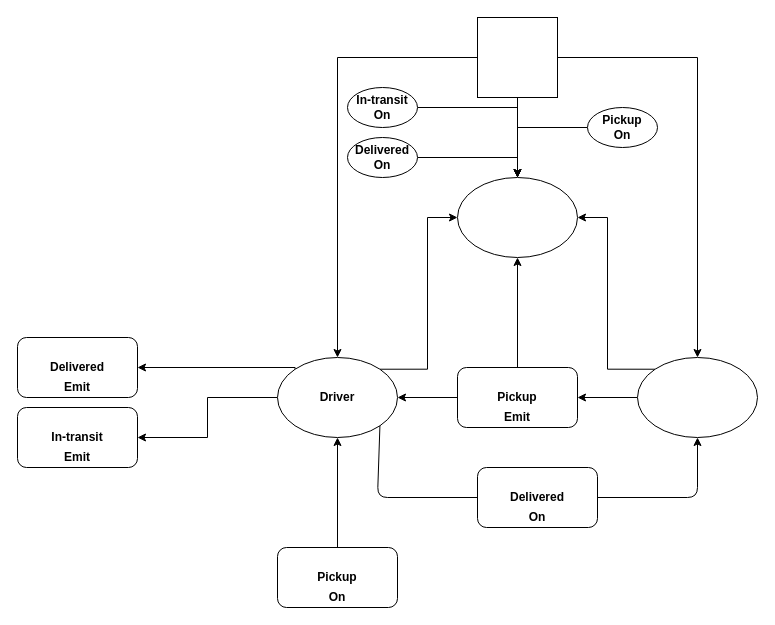
This 775x625 diagram has some shape labels left out. The shapes that lost their labels are listed below. From the top down, each one's centre as x and y in pixels, then its label:
At [517,57]: "Events".
At [517,217]: "Caps".
At [697,397]: "Vendor".
